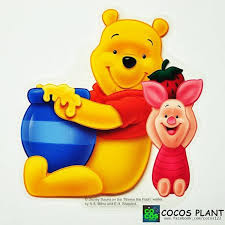Winnie: (89, 7, 171, 125)
